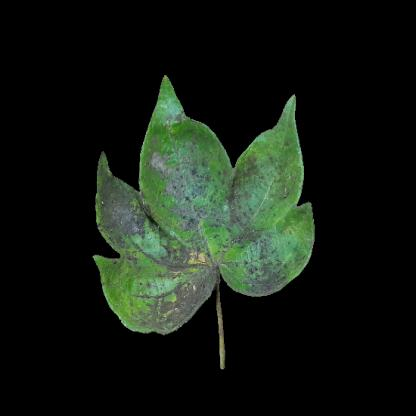curl_stage1: (113, 279, 133, 311)
healthy: (259, 135, 285, 154), (157, 99, 181, 115)
sooty: (158, 149, 230, 243), (243, 243, 291, 291), (234, 160, 292, 195), (102, 182, 138, 237), (160, 242, 202, 288), (116, 238, 164, 273), (230, 194, 262, 245), (162, 288, 206, 321), (197, 247, 221, 295)
